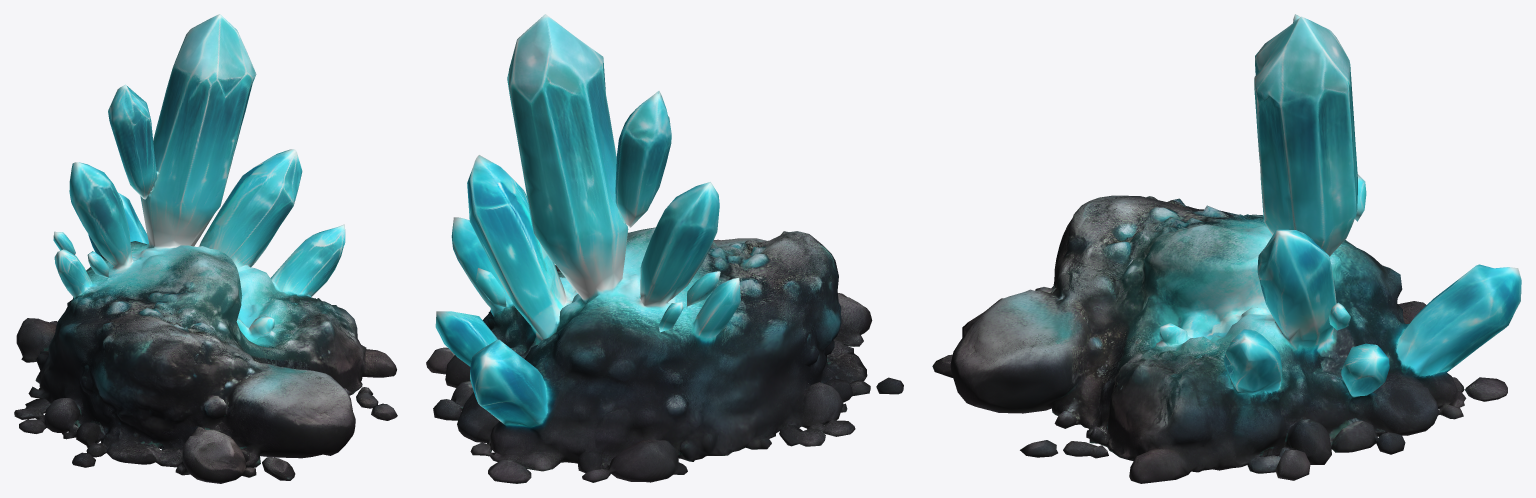
Rendered from space_crystal.glb.
3 renders of one model, left to right at view 1: azimuth 30°, elevation 25°; view 2: azimuth 150°, elevation 25°; view 3: azimuth 270°, elevation 25°, orthographic. The views are drawn at different scales.
Bounding box in the file's own units: 1.55 × 1.45 × 1.91.
Materials: 1 (1 with a texture image).
